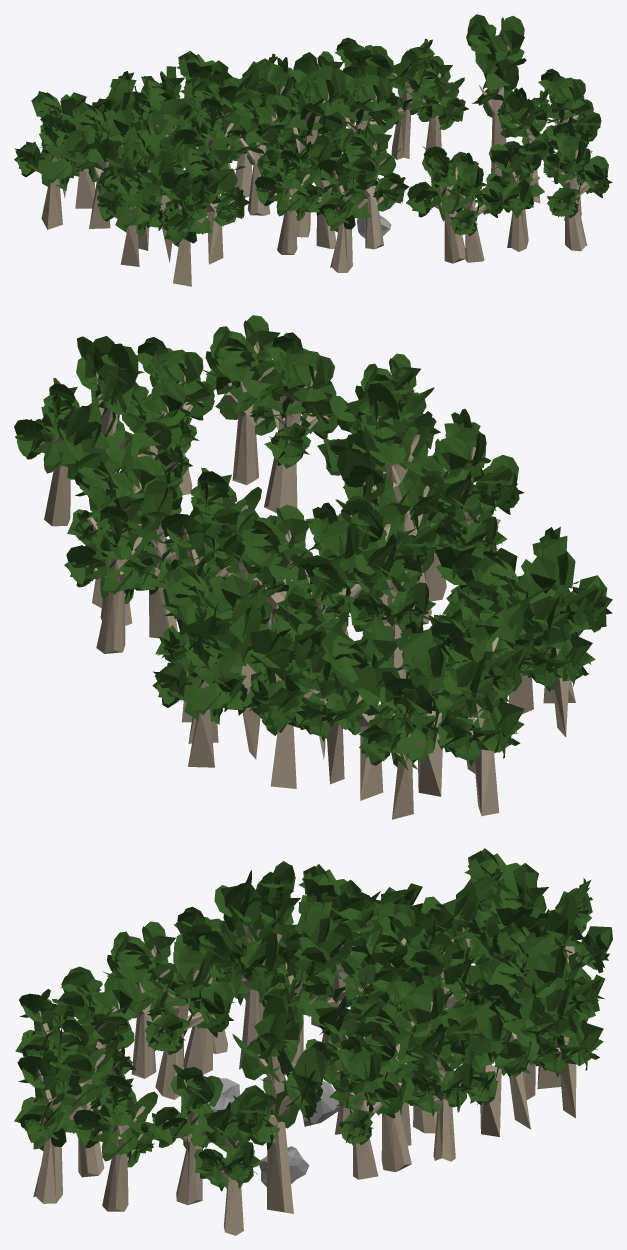
File: tree.glb
The picture shows the model from 3 angles, top to bottom: view 1: azimuth 30°, elevation 25°; view 2: azimuth 150°, elevation 25°; view 3: azimuth 270°, elevation 25°; orthographic projection. The views are drawn at different scales.
Parts seen in each view (by area): view 1: Cube.044; view 2: Cube.044; view 3: Cube.044.
Part boxes in pixels (box(x1,y1,x2,y2)): Cube.044: box(14, 14, 612, 286); Cube.044: box(14, 315, 612, 819); Cube.044: box(14, 848, 612, 1235).
Bounding box in the file's own units: 25.24 × 10.08 × 21.46.
